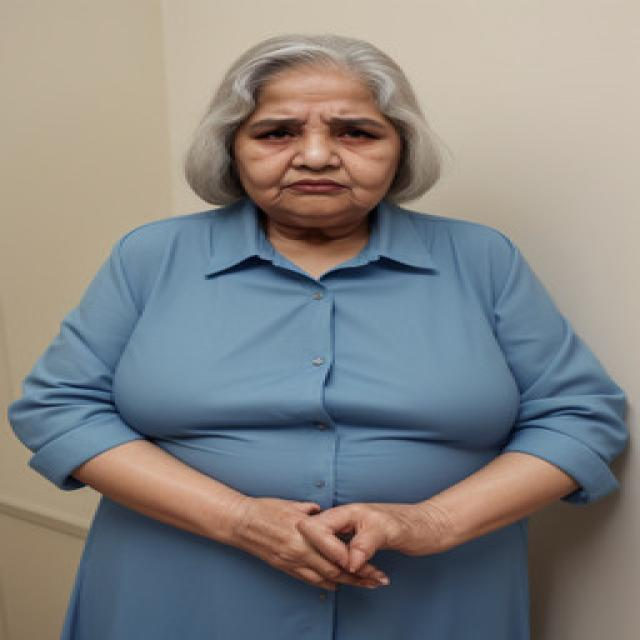Ai human 2: (17, 20, 626, 640)
